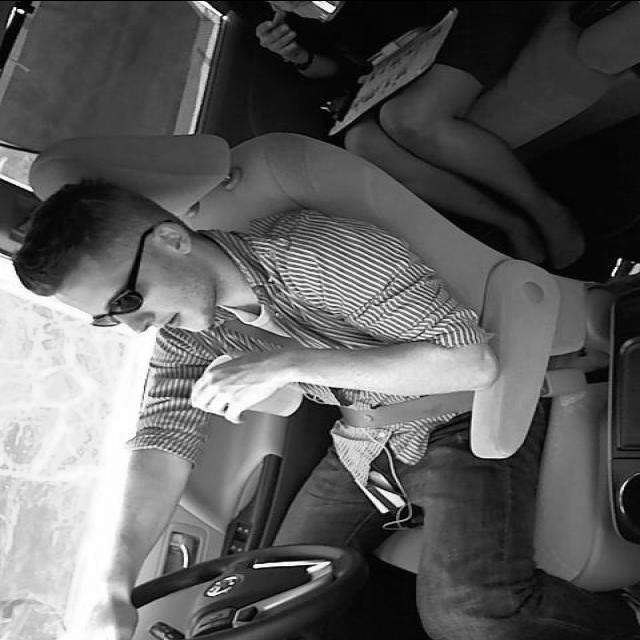drinking: (194, 354, 306, 420)
